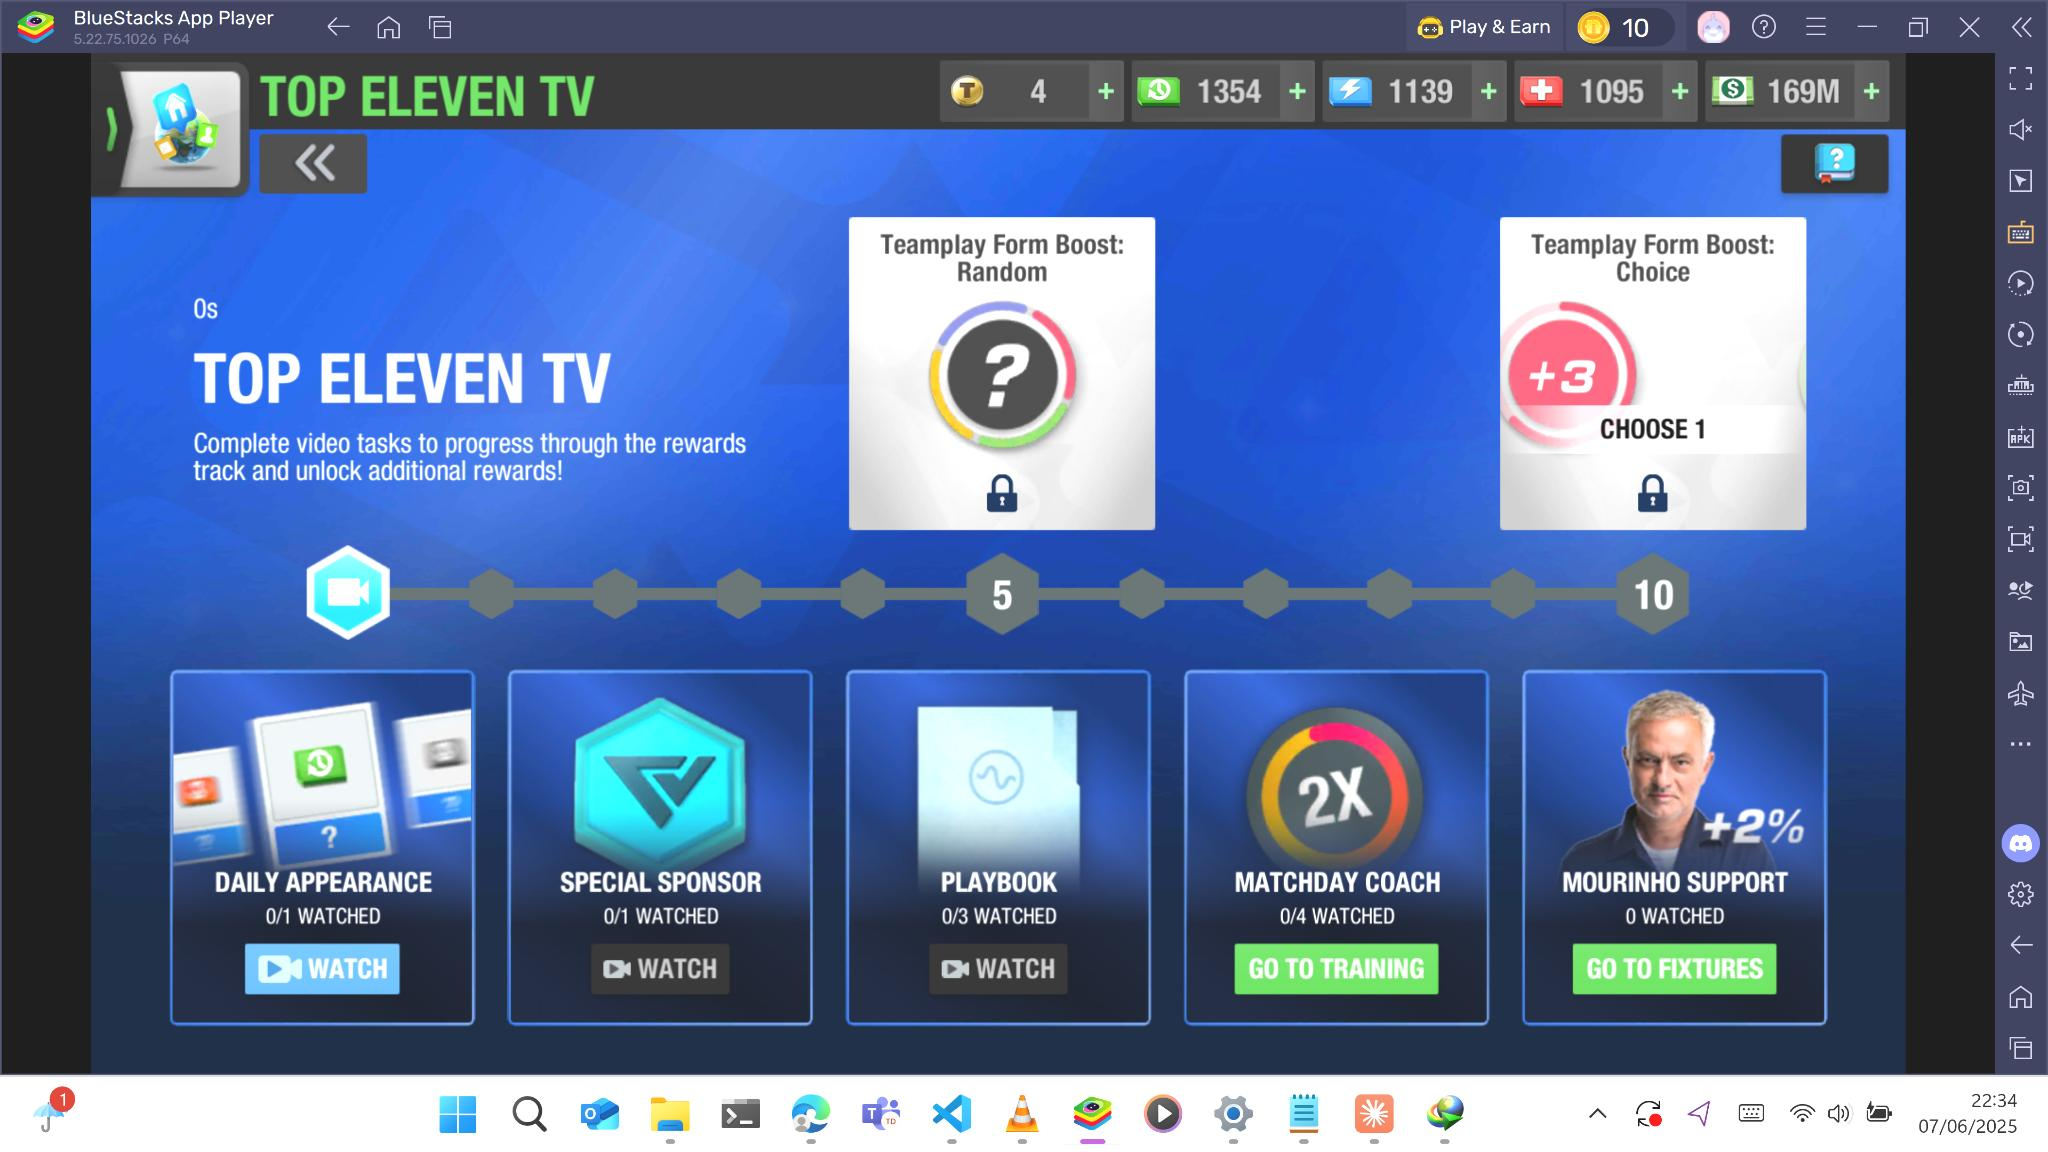cash_pack: (1710, 76, 1755, 105)
medic_pack: (1519, 76, 1564, 107)
morale_pack: (1328, 76, 1373, 108)
rest_pack: (1137, 76, 1182, 108)
watch_ads_general: (243, 941, 402, 999)
